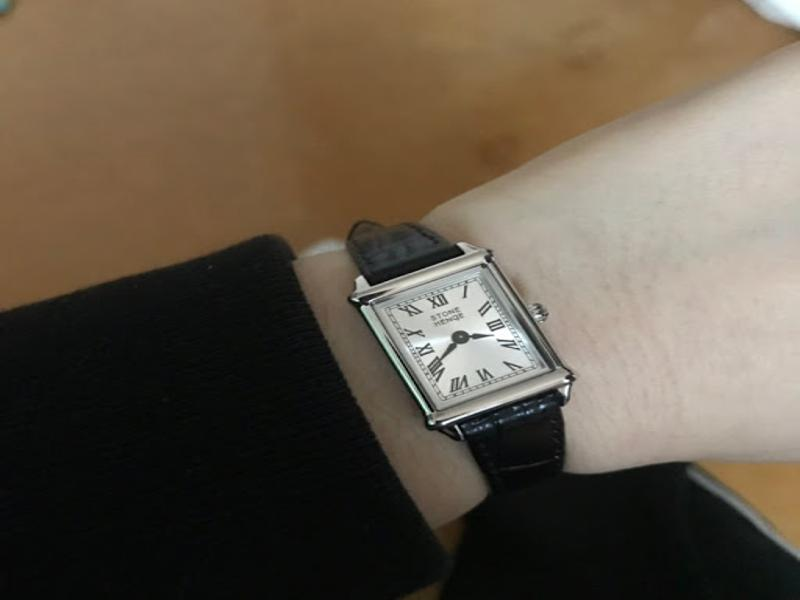watch: (345, 217, 578, 512)
